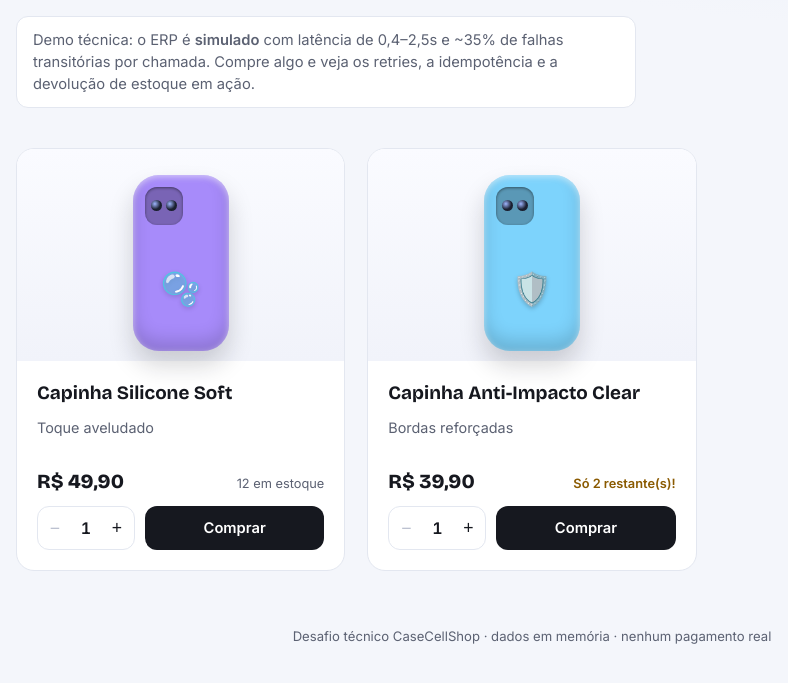
App › estoque insuficiente: mostra mensagem clara com o disponível e reabilita o botão
(page scrolled)
Expected: the heading "Capinha Anti-Impacto Clear" is shown, [388,379,676,407]
What coordinates should you click on to do the following:
click the button "Comprar" below "R$ 39,90"
I would click on:
 (586, 528)
Its box is [496,506,676,550].
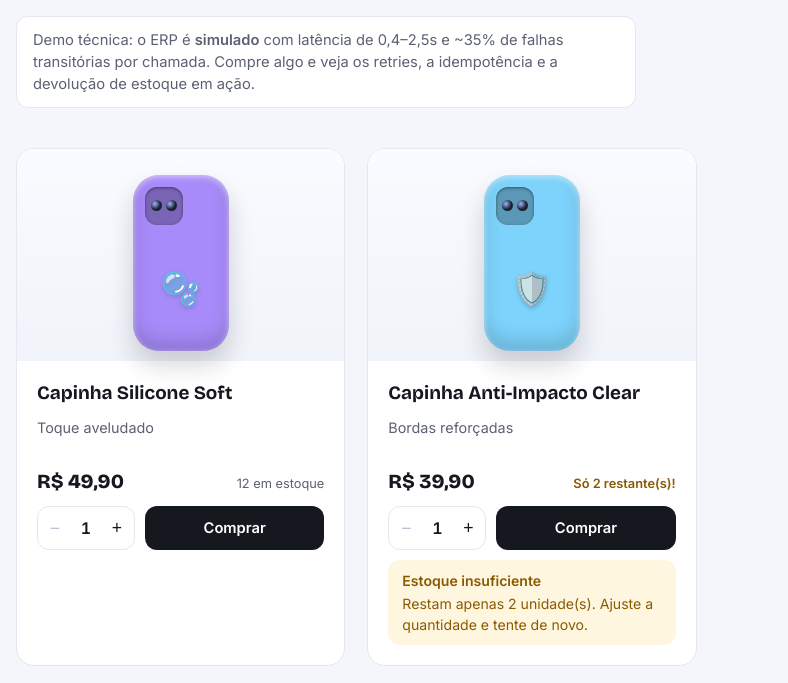
Expected: the text "Estoque insuficiente" is shown, [402,572,541,589]
Expected: the text "Restam apenas 2 unidade" is shown, [402,595,653,633]
